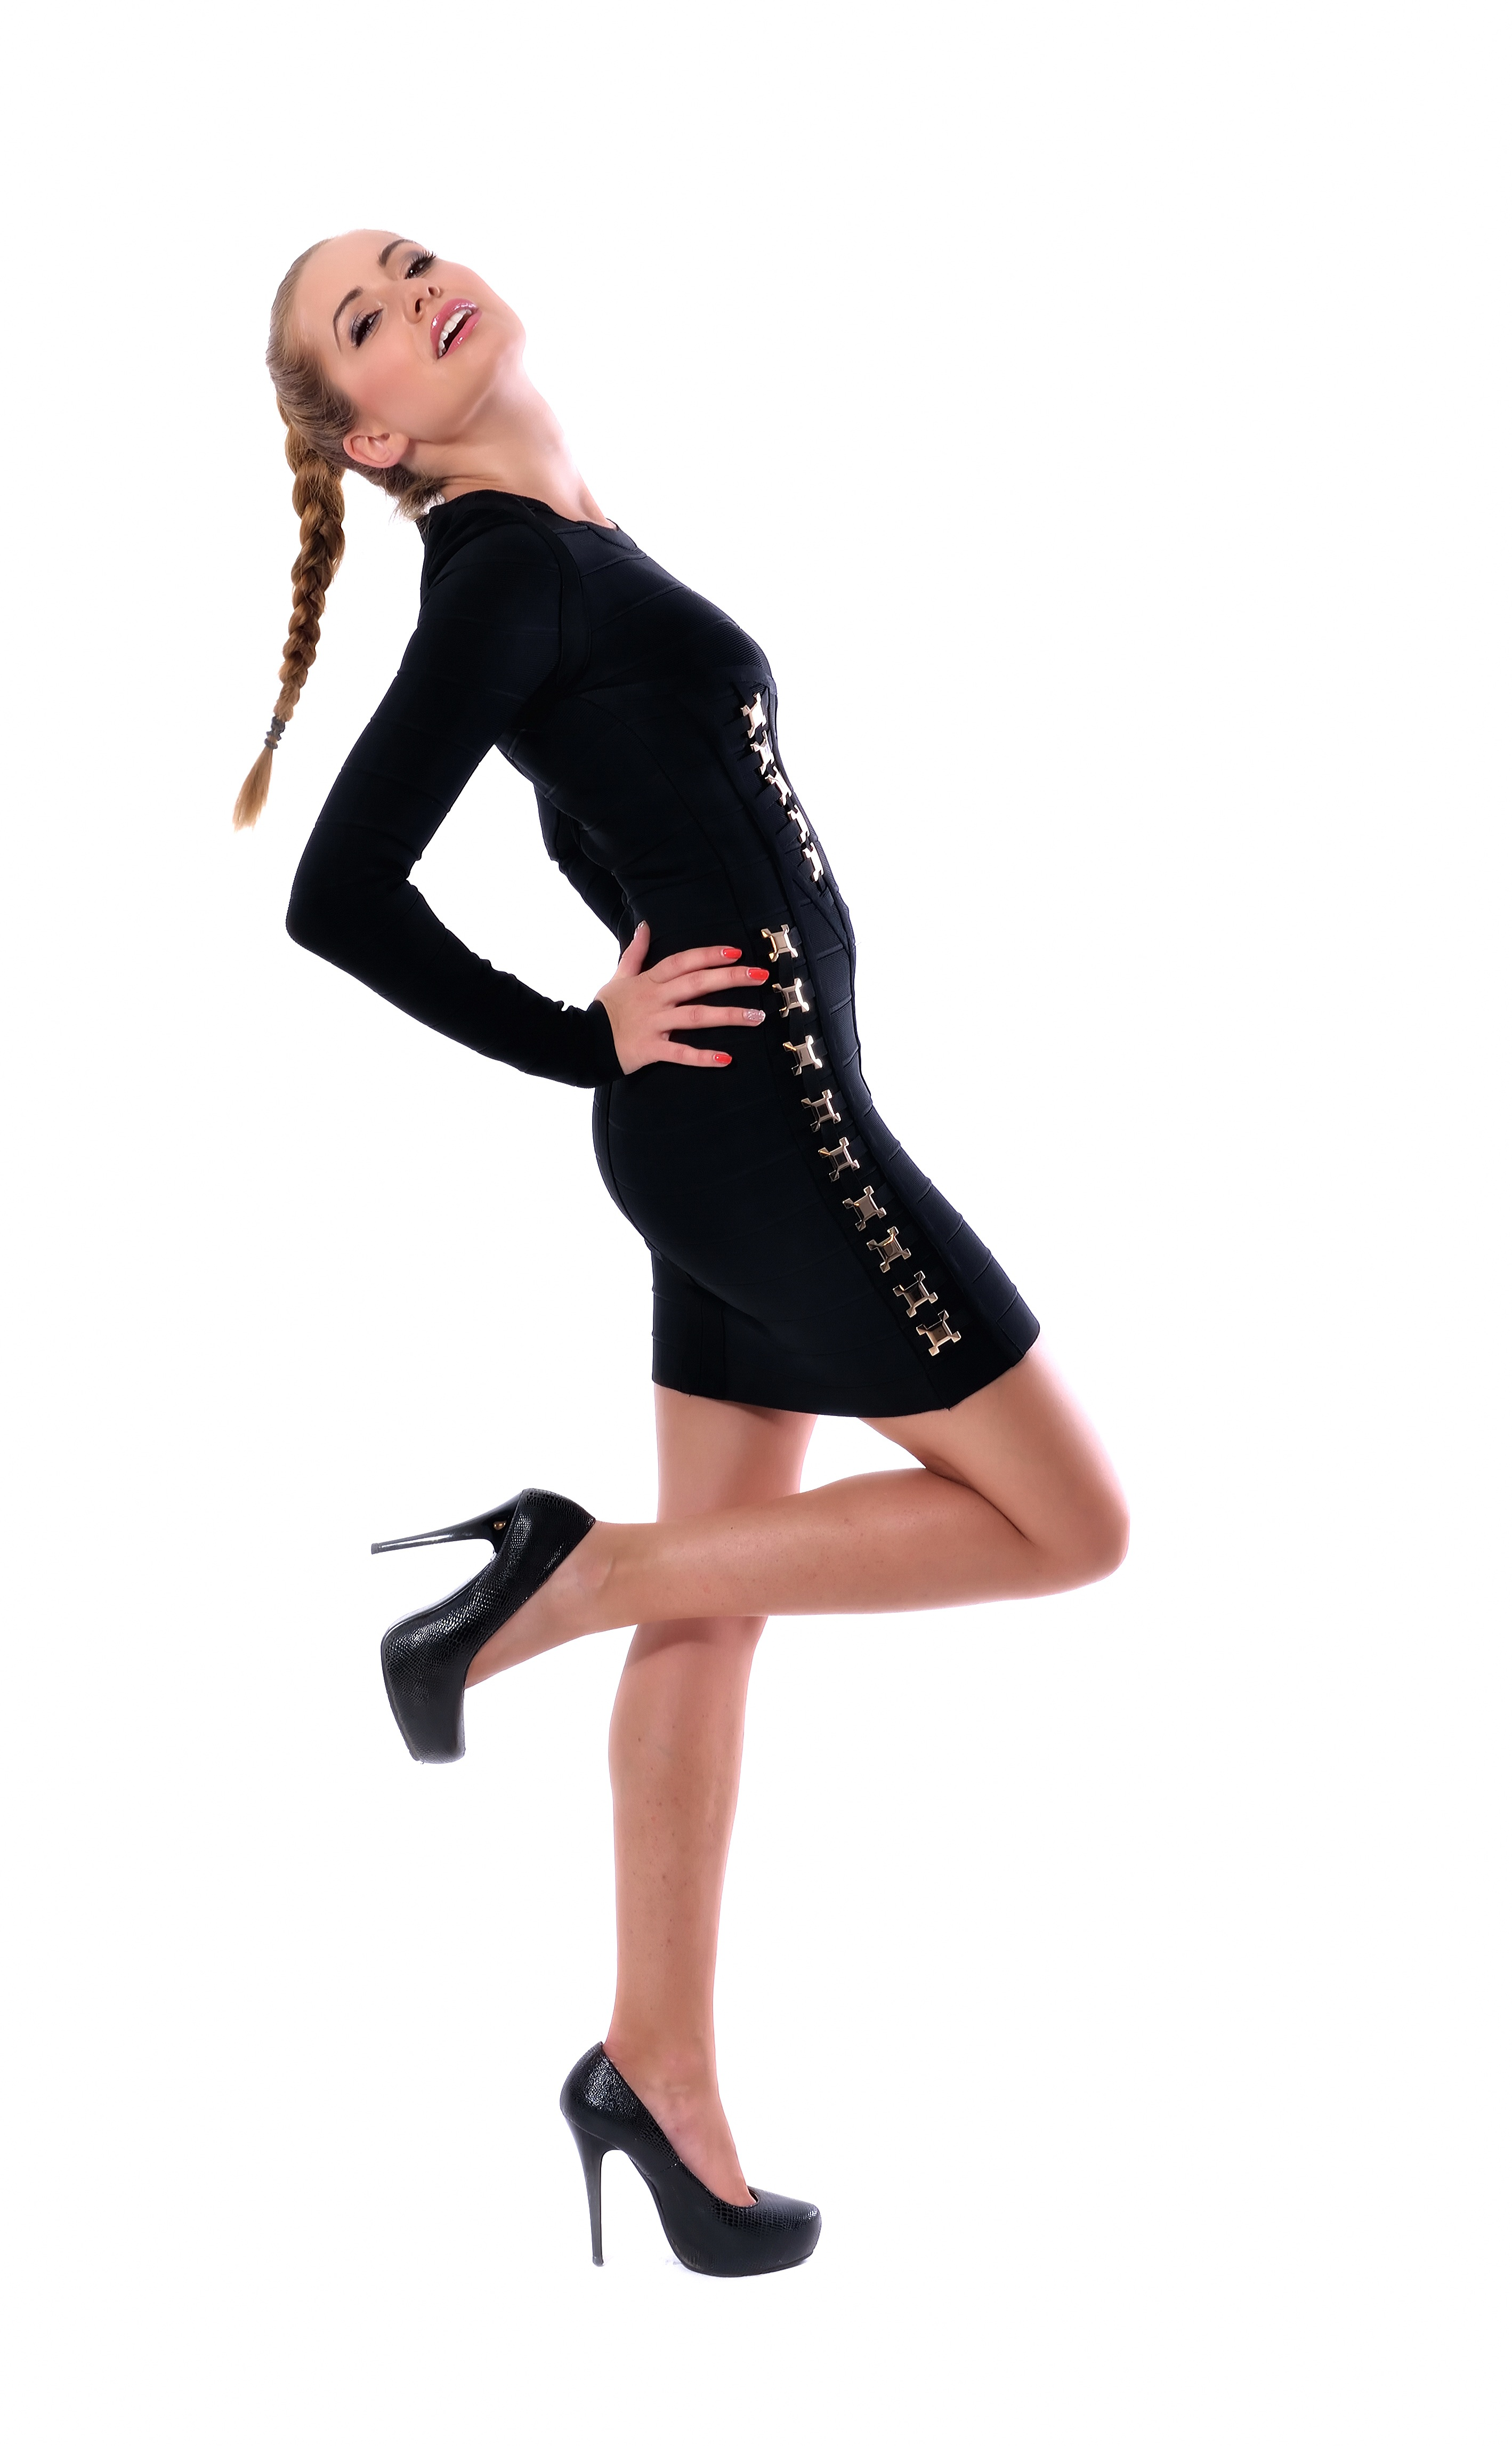person: (224, 226, 974, 1132)
